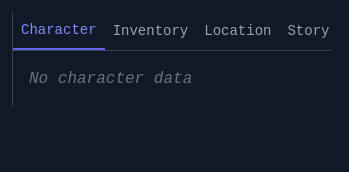
Test: Sidebar › renders Inventory tab with null game state shows no inventory data
The width and height of the screenshot is (349, 172).
Click the button "Inventory" at (150, 31), box [105,12,196,50]
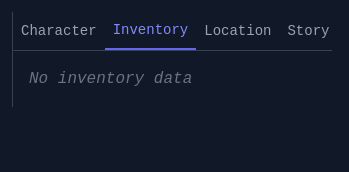
Check: the text "No inventory data" is shown, box [29,70,192,88]
